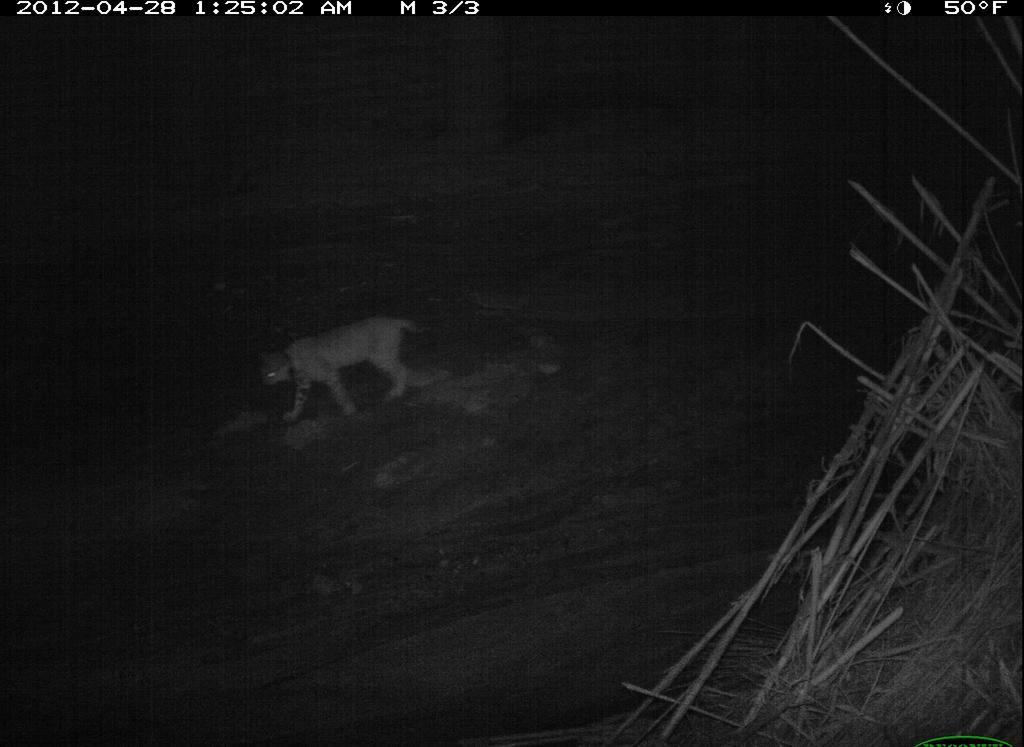bobcat: (241, 318, 445, 410)
